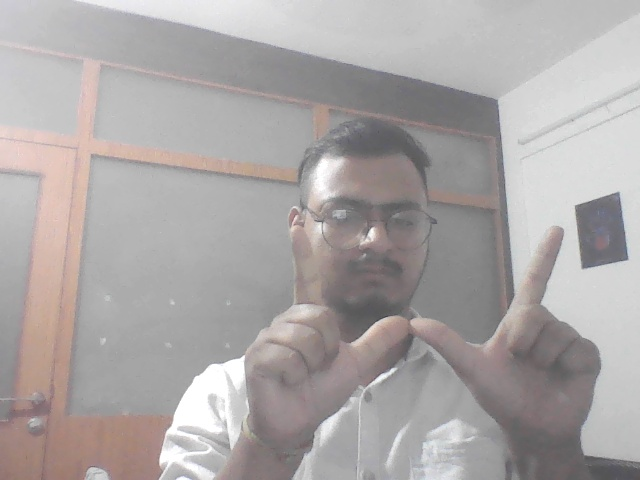Whatever: (234, 218, 611, 474)
